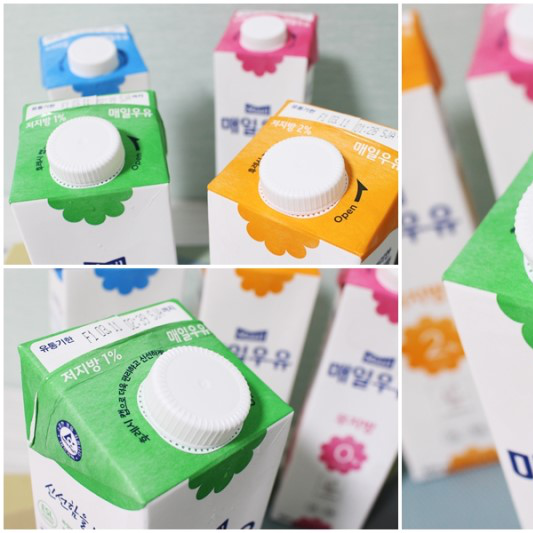milk: (20, 299, 294, 531), (442, 147, 533, 532), (208, 99, 396, 263), (11, 91, 180, 262), (211, 8, 317, 171), (38, 23, 153, 100)
